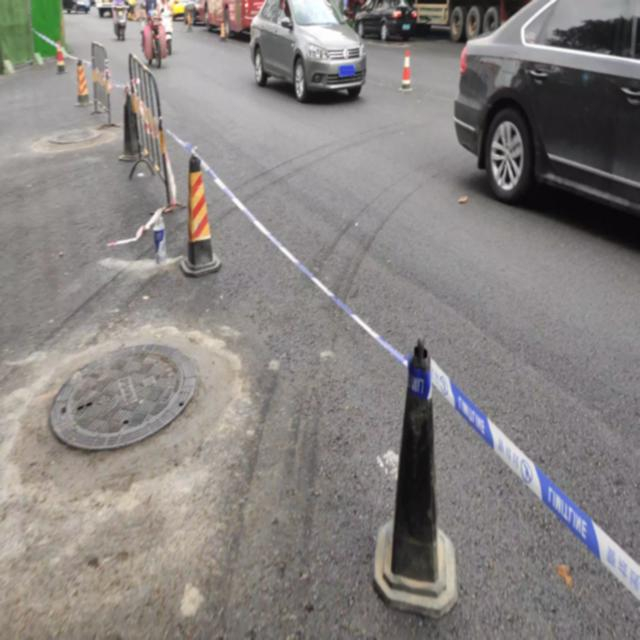bus: (197, 2, 262, 36)
car: (250, 1, 366, 100), (454, 14, 513, 202), (354, 1, 417, 41)
motorbike: (140, 6, 167, 68), (111, 2, 127, 41)
reflective_cone: (370, 334, 460, 618), (179, 153, 224, 276), (118, 87, 144, 161), (75, 59, 92, 105), (397, 48, 414, 93), (54, 40, 68, 74), (218, 19, 227, 41), (185, 10, 192, 31)
